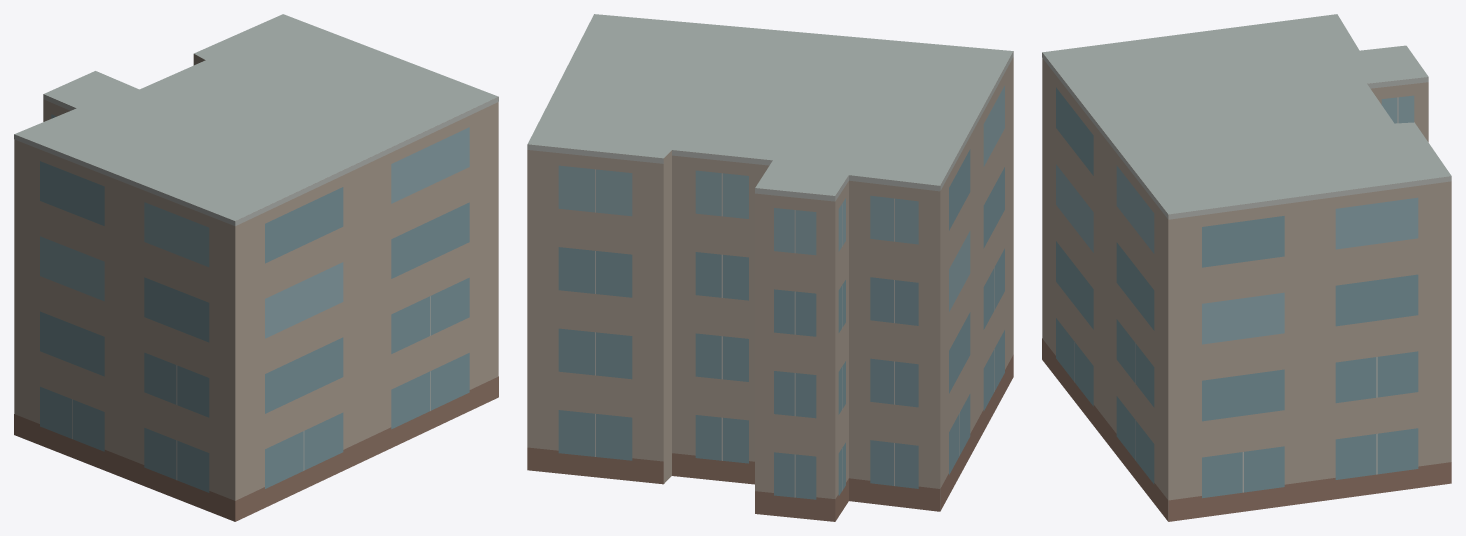
File: survey-upis-32862357.glb
3 views of the same model, side by side, from view 1: azimuth 30°, elevation 25°; view 2: azimuth 150°, elevation 25°; view 3: azimuth 270°, elevation 25° (orthographic). The views are drawn at different scales.
Visible parts, largest first — view 1: survey-upis-32862357.tmp; view 2: survey-upis-32862357.tmp; view 3: survey-upis-32862357.tmp.
Boxes of the visible parts, bbox=[...] form: survey-upis-32862357.tmp: bbox=[14, 14, 498, 521]; survey-upis-32862357.tmp: bbox=[527, 14, 1013, 521]; survey-upis-32862357.tmp: bbox=[1042, 14, 1451, 521].
Size of the model in its own units: 20.01 by 14.3 by 17.28.
